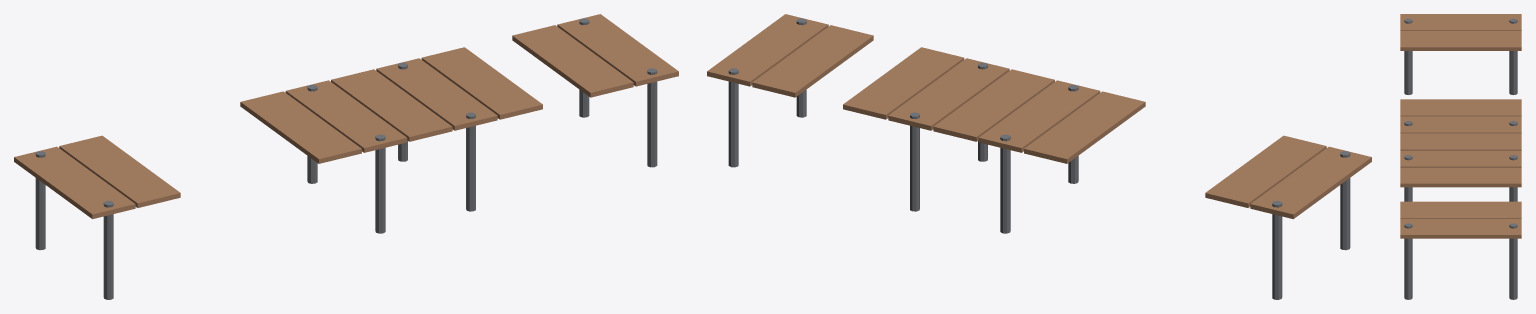
The model's file is B_boat_landing.glb.
3 views of the same model, side by side, from view 1: azimuth 30°, elevation 25°; view 2: azimuth 150°, elevation 25°; view 3: azimuth 270°, elevation 25° (orthographic). The views are drawn at different scales.
Parts seen in each view (by area): view 1: Cube.002, Cube.007, Cube, Cube.004, Cube.001, Cube.006, Cube.008, Cube.003, Cube.005, Cylinder.006, Cylinder.002, Cylinder (+2 smaller); view 2: Cube.002, Cube.007, Cube, Cube.004, Cube.001, Cube.006, Cube.008, Cube.003, Cube.005, Cylinder.007, Cylinder.003, Cylinder.001 (+2 smaller); view 3: Cube.006, Cube.008, Cube.001, Cube.002, Cube.004, Cube.007, Cube.005, Cube.003, Cube, Cylinder.006, Cylinder.007, Cylinder (+3 smaller).
Boxes of the visible parts, x1=… form: Cube.002: x1=240, y1=91, x2=361, y2=163; Cube.007: x1=512, y1=25, x2=633, y2=97; Cube: x1=14, y1=146, x2=135, y2=219; Cube.004: x1=331, y1=69, x2=452, y2=141; Cube.001: x1=59, y1=135, x2=180, y2=207; Cube.006: x1=421, y1=47, x2=542, y2=119; Cube.008: x1=557, y1=14, x2=678, y2=86; Cube.003: x1=285, y1=80, x2=407, y2=152; Cube.005: x1=376, y1=58, x2=497, y2=130; Cylinder.006: x1=647, y1=68, x2=657, y2=167; Cylinder.002: x1=375, y1=134, x2=385, y2=233; Cylinder: x1=103, y1=201, x2=113, y2=299; Cube.002: x1=1024, y1=91, x2=1145, y2=163; Cube.007: x1=752, y1=25, x2=873, y2=97; Cube: x1=1250, y1=146, x2=1371, y2=219; Cube.004: x1=933, y1=69, x2=1054, y2=141; Cube.001: x1=1205, y1=135, x2=1326, y2=207; Cube.006: x1=843, y1=47, x2=964, y2=119; Cube.008: x1=707, y1=14, x2=828, y2=86; Cube.003: x1=978, y1=80, x2=1100, y2=152; Cube.005: x1=888, y1=58, x2=1009, y2=130; Cylinder.007: x1=728, y1=68, x2=738, y2=167; Cylinder.003: x1=1000, y1=134, x2=1010, y2=233; Cylinder.001: x1=1272, y1=201, x2=1282, y2=299; Cube.006: x1=1400, y1=167, x2=1521, y2=187; Cube.008: x1=1400, y1=218, x2=1521, y2=238; Cube.001: x1=1400, y1=31, x2=1521, y2=50; Cube.002: x1=1400, y1=99, x2=1521, y2=116; Cube.004: x1=1400, y1=133, x2=1521, y2=150; Cube.007: x1=1400, y1=201, x2=1521, y2=218; Cube.005: x1=1400, y1=150, x2=1521, y2=167; Cube.003: x1=1400, y1=116, x2=1521, y2=133; Cube: x1=1400, y1=14, x2=1521, y2=30; Cylinder.006: x1=1404, y1=223, x2=1412, y2=299; Cylinder.007: x1=1509, y1=223, x2=1517, y2=299; Cylinder: x1=1404, y1=18, x2=1412, y2=94.
Bounding box in the file's own units: 25.9 × 4 × 6.
